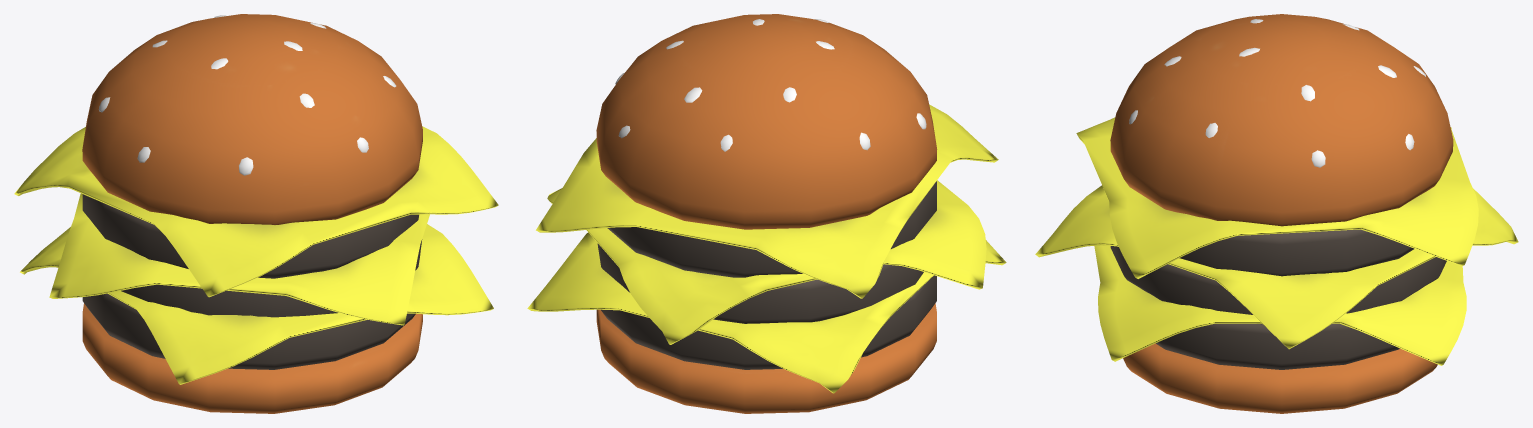
File: burgerTriple.fbx
3 views of the same model, side by side, from view 1: azimuth 30°, elevation 25°; view 2: azimuth 150°, elevation 25°; view 3: azimuth 270°, elevation 25° (orthographic).
Parts seen in each view (by area): view 1: pSphere2, cheese2, cheese1, pCylinder1, cheese, pCylinder2, pCylinder8, pCylinder7; view 2: pSphere2, cheese2, cheese1, pCylinder1, cheese, pCylinder2, pCylinder7, pCylinder8; view 3: pSphere2, cheese2, cheese, cheese1, pCylinder1, pCylinder8, pCylinder2, pCylinder7.
Part boxes in pixels (x1=…): pSphere2: x1=82, y1=14, x2=422, y2=224; cheese2: x1=14, y1=126, x2=498, y2=297; cheese1: x1=49, y1=193, x2=429, y2=325; pCylinder1: x1=82, y1=303, x2=422, y2=413; cheese: x1=20, y1=224, x2=493, y2=384; pCylinder2: x1=82, y1=293, x2=415, y2=369; pCylinder8: x1=82, y1=194, x2=418, y2=278; pCylinder7: x1=121, y1=239, x2=422, y2=317; pSphere2: x1=596, y1=14, x2=937, y2=229; cheese2: x1=536, y1=104, x2=998, y2=298; cheese1: x1=547, y1=180, x2=986, y2=344; pCylinder1: x1=596, y1=303, x2=936, y2=413; cheese: x1=527, y1=232, x2=1006, y2=393; pCylinder2: x1=601, y1=275, x2=936, y2=369; pCylinder7: x1=597, y1=243, x2=923, y2=323; pCylinder8: x1=607, y1=181, x2=936, y2=277; pSphere2: x1=1110, y1=14, x2=1453, y2=226; cheese2: x1=1076, y1=117, x2=1478, y2=278; cheese: x1=1094, y1=245, x2=1466, y2=365; cheese1: x1=1035, y1=185, x2=1518, y2=349; pCylinder1: x1=1123, y1=343, x2=1437, y2=413; pCylinder8: x1=1179, y1=229, x2=1414, y2=276; pCylinder2: x1=1156, y1=323, x2=1399, y2=369; pCylinder7: x1=1110, y1=246, x2=1446, y2=324.
Bounding box in the file's own units: 17.13 × 12.18 × 16.95.
